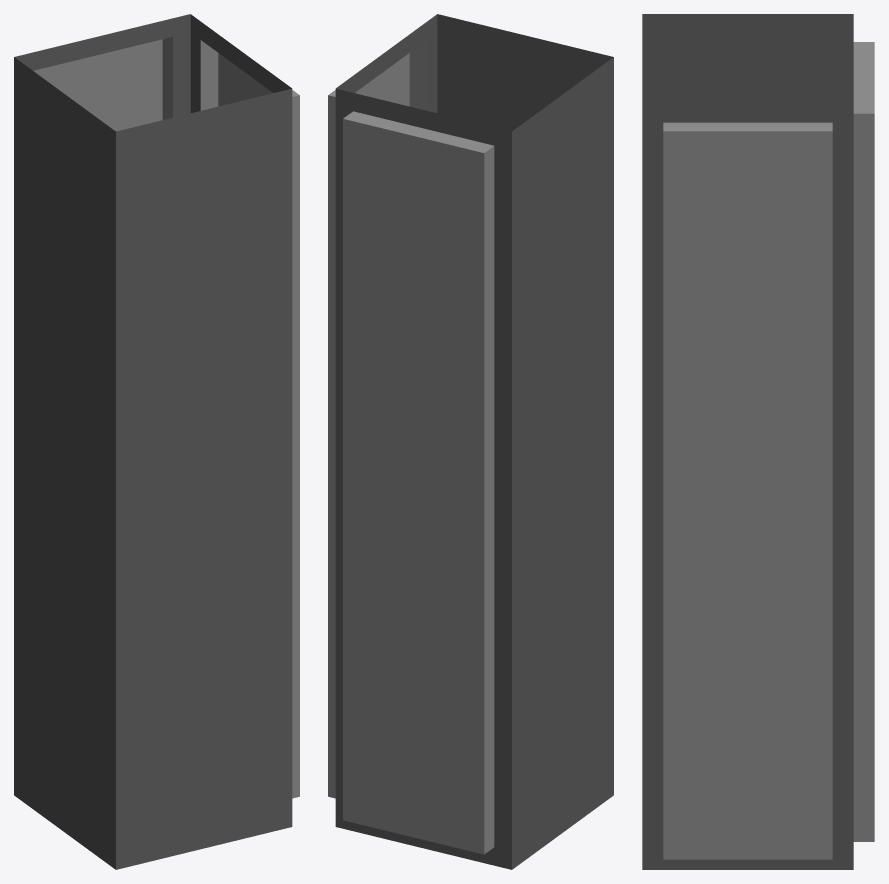
File: Building_Deco_04_Pillar.FBX
3 views of the same model, side by side, from view 1: azimuth 30°, elevation 25°; view 2: azimuth 150°, elevation 25°; view 3: azimuth 270°, elevation 25° (orthographic). The views are drawn at different scales.
Parts seen in each view (by area): view 1: Building_Deco_04_Pillar_LOD0; view 2: Building_Deco_04_Pillar_LOD0; view 3: Building_Deco_04_Pillar_LOD0.
Boxes of the visible parts, x1,y1,x2,y2 form: Building_Deco_04_Pillar_LOD0: (14,14,299,869); Building_Deco_04_Pillar_LOD0: (328,14,613,869); Building_Deco_04_Pillar_LOD0: (642,14,874,869).
Size of what is drawn, in the model's own units: 49.5 by 180 by 49.5.
